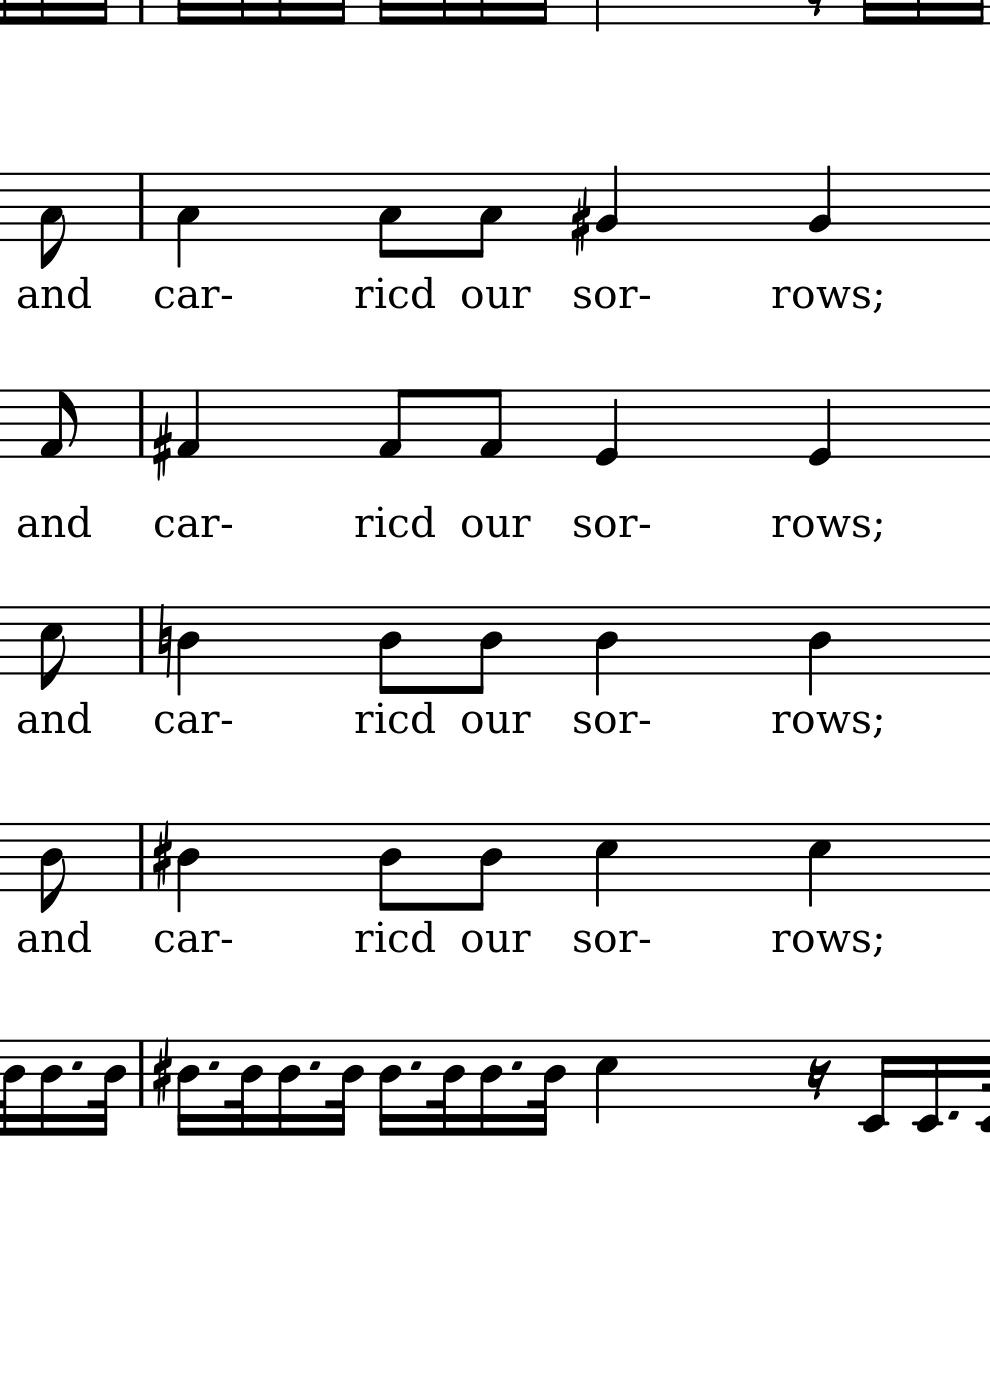16_-2: (857, 1038, 892, 1134), (913, 1037, 940, 1134)
16_4: (39, 1038, 65, 1138), (479, 1039, 505, 1136), (277, 1038, 302, 1139), (377, 1038, 401, 1136), (176, 1037, 198, 1139)
32_4: (526, 1038, 566, 1139), (326, 1038, 365, 1139), (426, 1038, 465, 1136), (89, 1039, 127, 1136), (225, 1039, 262, 1136)
4_0: (807, 388, 832, 470), (594, 387, 618, 467)
4_1: (177, 387, 200, 460)
4_2: (807, 165, 832, 243), (594, 163, 618, 244)
4_3: (177, 171, 200, 270)
4_4: (807, 604, 832, 699), (175, 822, 200, 913), (176, 606, 201, 696), (594, 604, 618, 696)
4_5: (594, 822, 619, 909), (807, 822, 831, 909), (594, 1039, 617, 1125)
8_1: (40, 390, 78, 460), (377, 387, 412, 460), (478, 387, 504, 461)
8_3: (39, 171, 66, 273), (471, 171, 502, 261), (377, 171, 402, 260)
8_4: (466, 822, 502, 913), (467, 605, 502, 696), (37, 821, 66, 914), (376, 605, 404, 696), (376, 821, 402, 914)
8_5: (39, 604, 66, 690)
Natural: (156, 601, 172, 680)
Rests16: (806, 1055, 831, 1101)
Sharp: (151, 1034, 174, 1113), (149, 819, 172, 892), (149, 411, 172, 482), (569, 187, 591, 257)
Single_barline: (130, 390, 150, 456), (132, 174, 151, 241), (133, 606, 151, 674), (133, 823, 150, 890), (132, 1041, 149, 1108)
dot: (407, 1058, 426, 1073), (205, 1058, 222, 1073), (510, 1058, 526, 1073), (309, 1058, 322, 1074), (69, 1059, 84, 1072), (947, 1109, 959, 1121)
